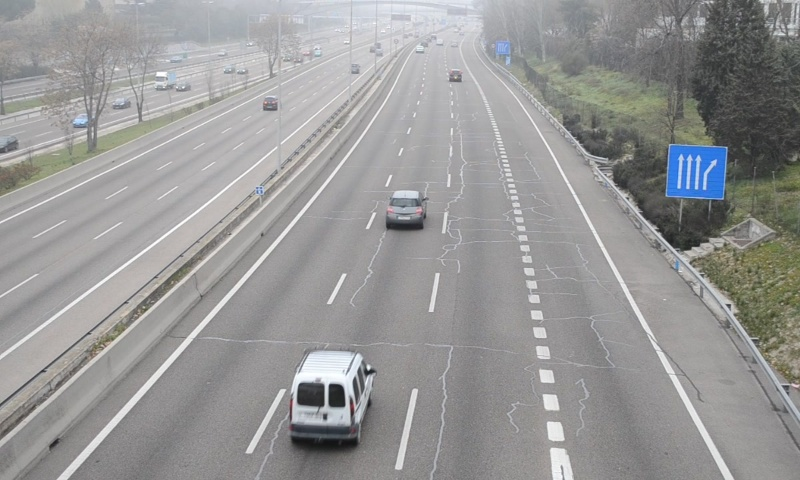car: (386, 189, 425, 226)
van: (288, 350, 374, 444)
